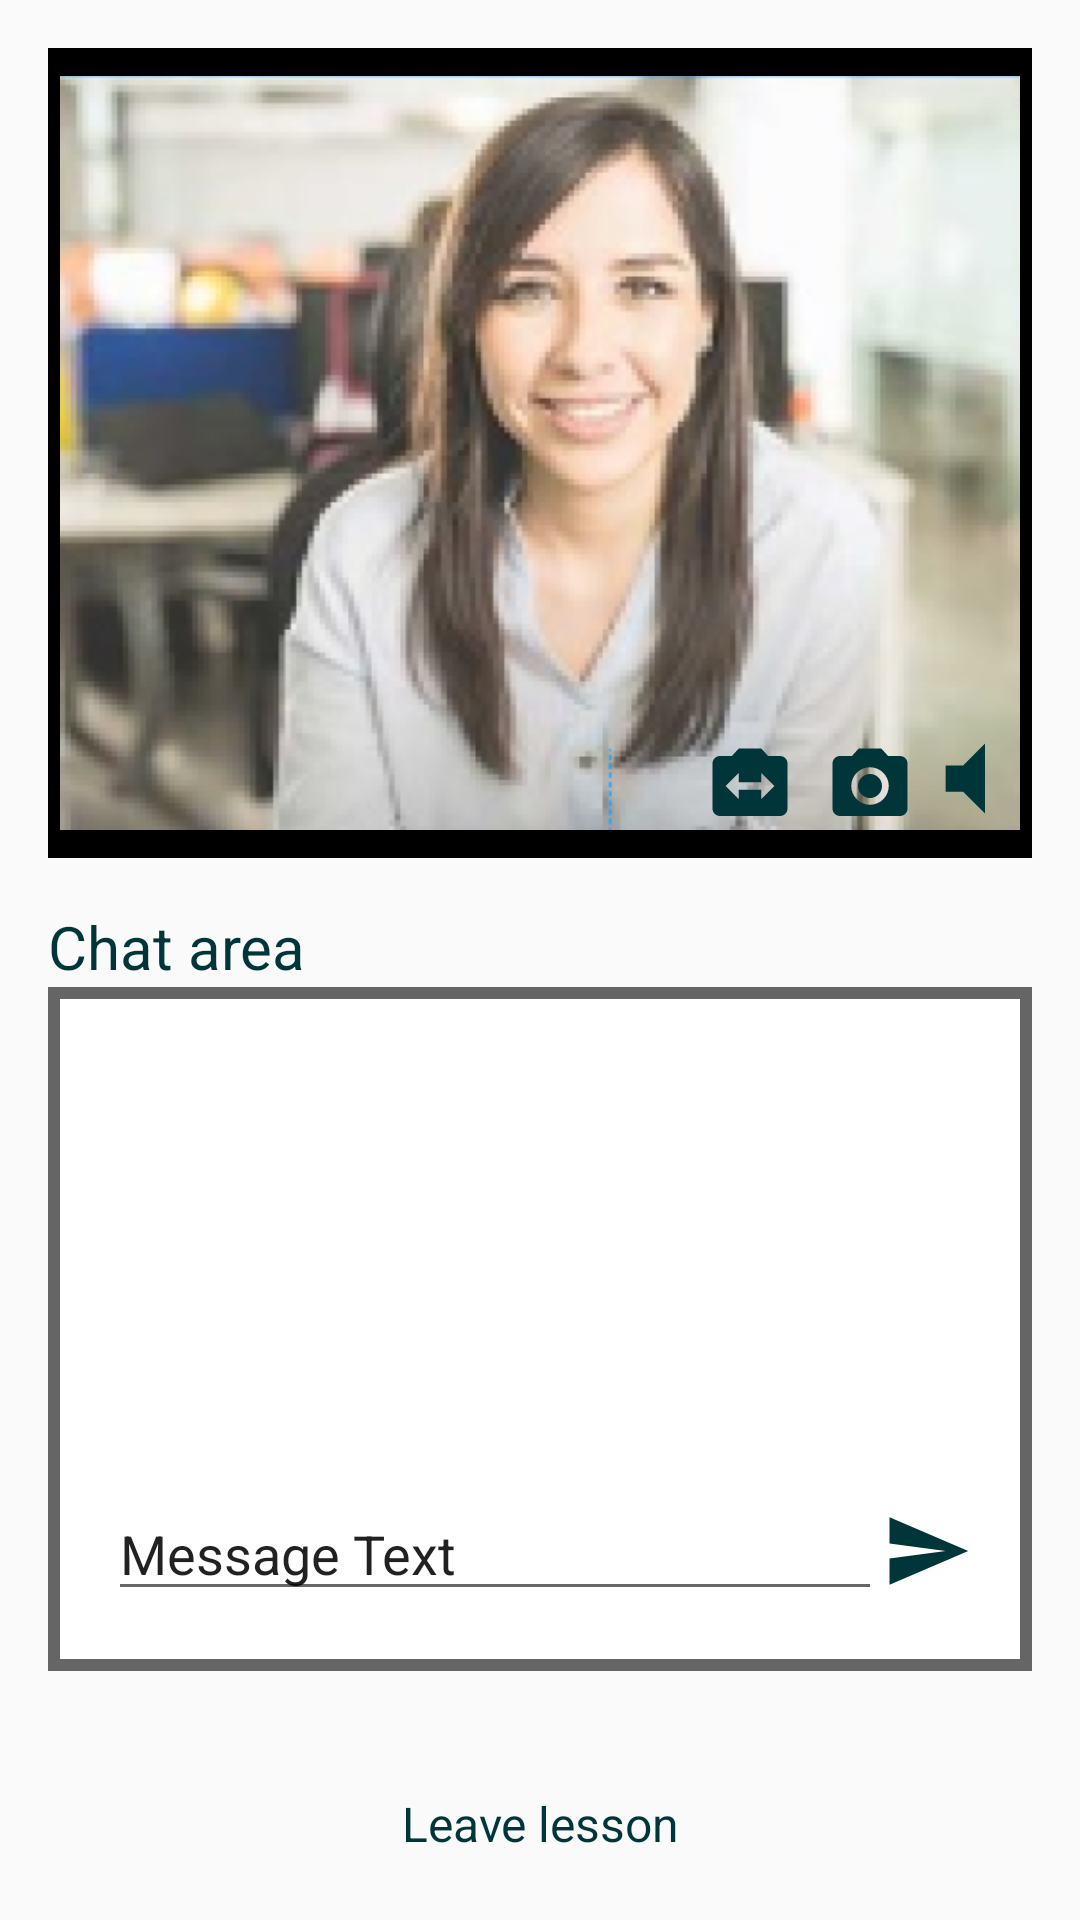

Point at icon controls on the screen. Image size 1080px×1920px, points as point (x, y).
camera: point (870, 786)
send: point (928, 1551)
switch camera: point (750, 786)
